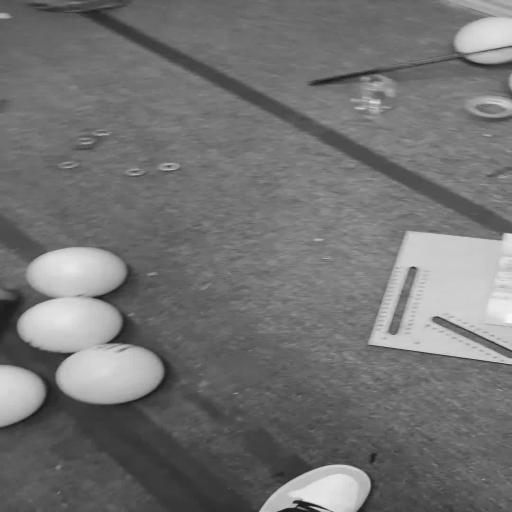fuel: (56, 344, 164, 404), (17, 298, 123, 353), (26, 247, 128, 297), (0, 365, 46, 427), (454, 17, 511, 64)
